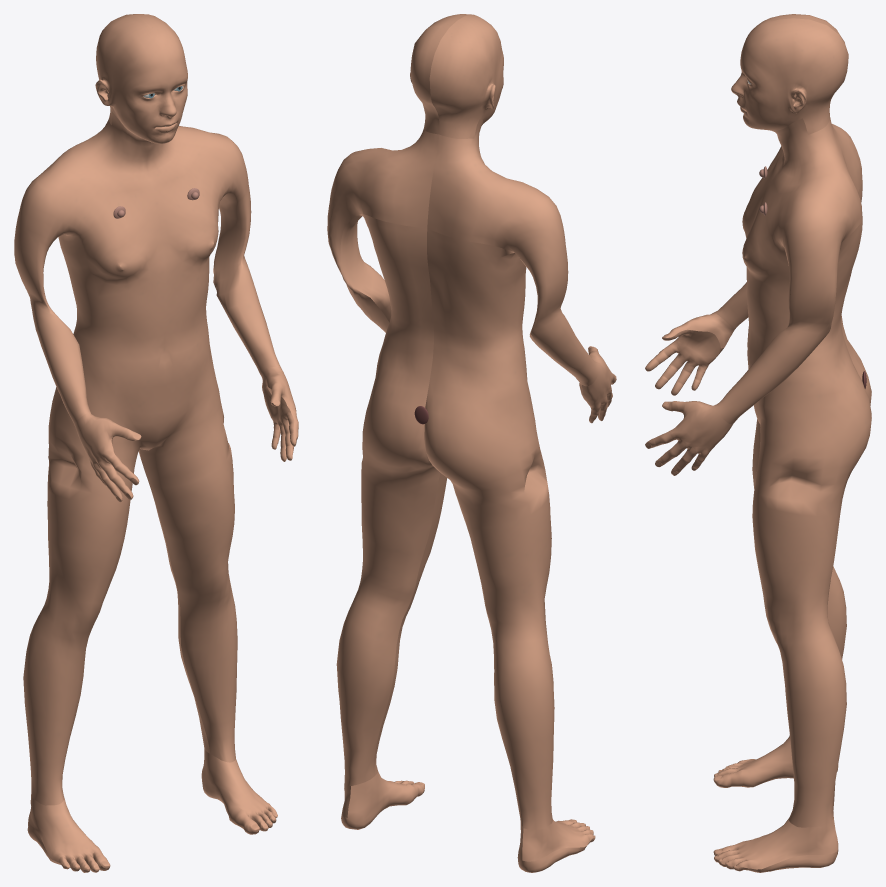
File: body-jugendlicher-divers-real-v3.glb
3 renders of one model, left to right at view 1: azimuth 30°, elevation 25°; view 2: azimuth 150°, elevation 25°; view 3: azimuth 270°, elevation 25°, orthographic.
Parts seen in each view (by area): view 1: real-human-body; view 2: real-human-body; view 3: real-human-body.
Boxes of the visible parts, x1=… form: real-human-body: x1=14, y1=14, x2=298, y2=872; real-human-body: x1=327, y1=14, x2=616, y2=872; real-human-body: x1=645, y1=14, x2=871, y2=872.
Bounding box in the file's own units: 0.4886 × 1.66 × 0.4238.
7 materials, 1 textured.
